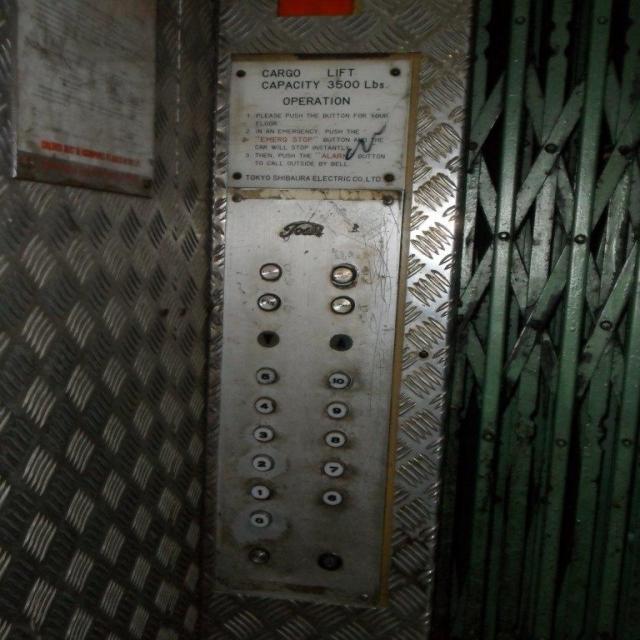1: (249, 482, 272, 500)
10: (326, 370, 351, 390)
2: (250, 452, 273, 472)
3: (252, 424, 274, 442)
4: (252, 395, 276, 414)
5: (254, 366, 278, 384)
6: (319, 488, 344, 506)
7: (322, 460, 345, 478)
8: (322, 429, 348, 448)
9: (323, 400, 350, 420)
G: (248, 509, 272, 529)
blur: (328, 262, 358, 285), (316, 550, 343, 572), (256, 291, 281, 311), (257, 261, 281, 281), (248, 548, 269, 564)
down: (256, 330, 278, 347)
text_light: (329, 294, 353, 314)
up: (328, 334, 352, 350)
